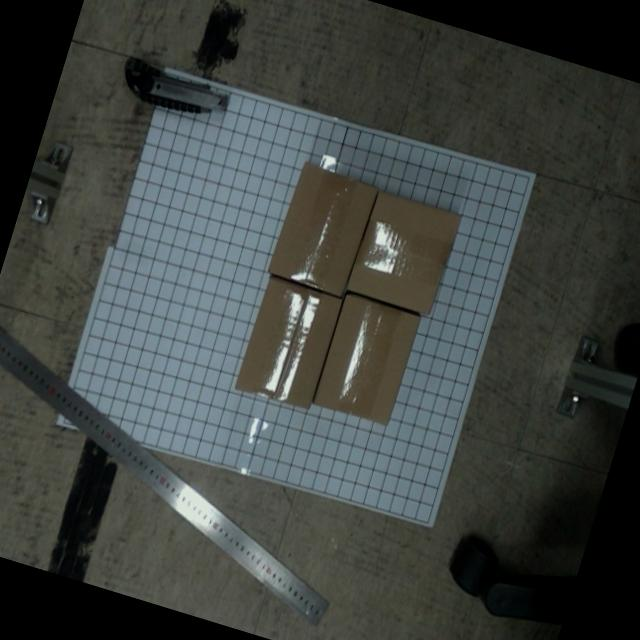box: (310, 290, 422, 428), (234, 274, 344, 412), (268, 160, 378, 298), (346, 187, 462, 316)
